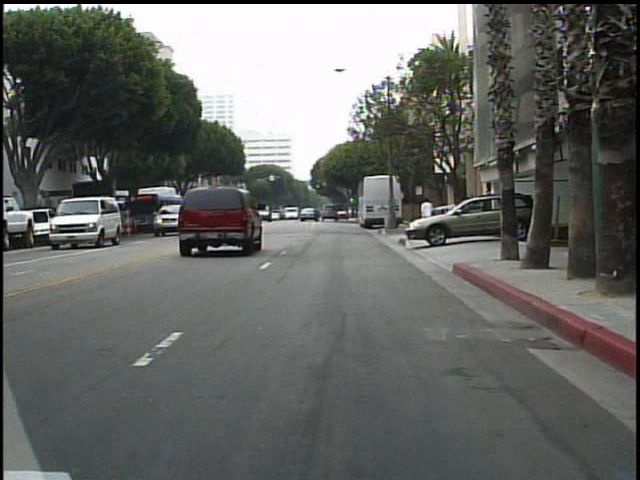person: (417, 194, 437, 239)
